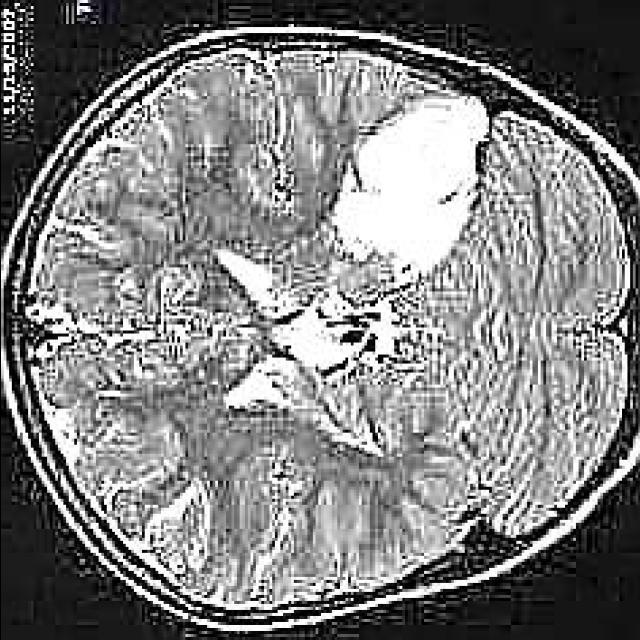tumor: (325, 90, 488, 282)
